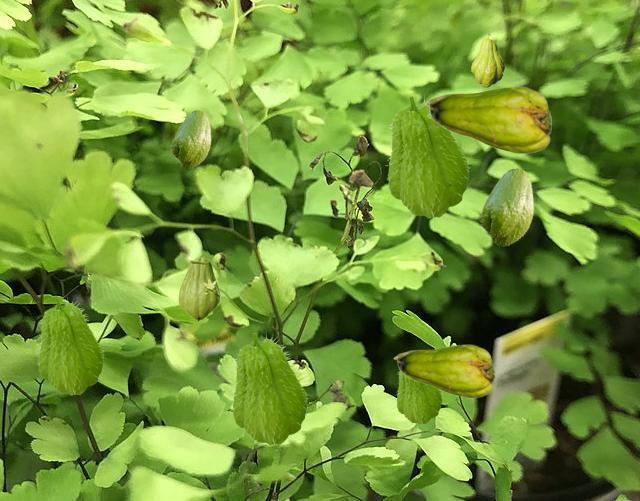sayote: (385, 94, 470, 217), (230, 331, 308, 444), (424, 86, 550, 153), (36, 296, 104, 394), (393, 344, 493, 397), (479, 168, 533, 246), (178, 257, 223, 320), (395, 371, 442, 423), (170, 110, 210, 168), (471, 33, 503, 86)
